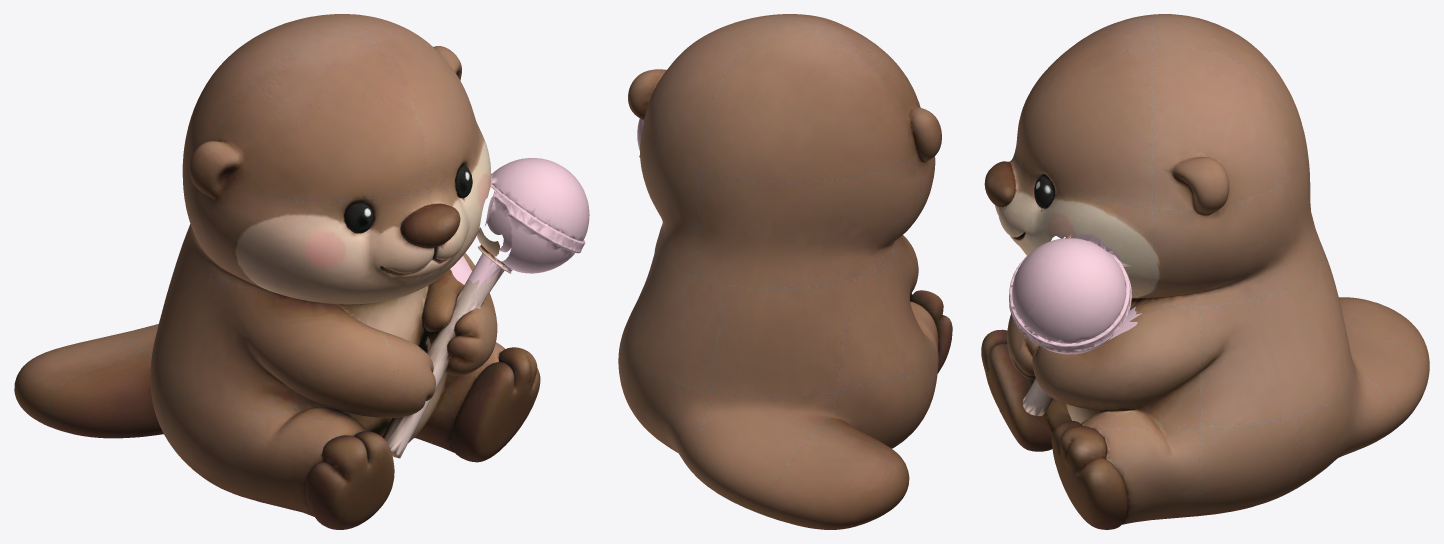
Rendered from model-mobile-v024.glb.
3 views of the same model, side by side, from view 1: azimuth 30°, elevation 25°; view 2: azimuth 150°, elevation 25°; view 3: azimuth 270°, elevation 25° (orthographic). The views are drawn at different scales.
Visible parts, largest first — view 1: tmproh0n99cobj; view 2: tmproh0n99cobj; view 3: tmproh0n99cobj.
Part boxes in pixels (x1,y1,x2,y2): tmproh0n99cobj: (14, 14, 589, 529); tmproh0n99cobj: (618, 14, 952, 529); tmproh0n99cobj: (981, 14, 1429, 529).
Size of the model in its own units: 0.9992 by 0.9998 by 0.9186.
2 materials, 1 textured.
